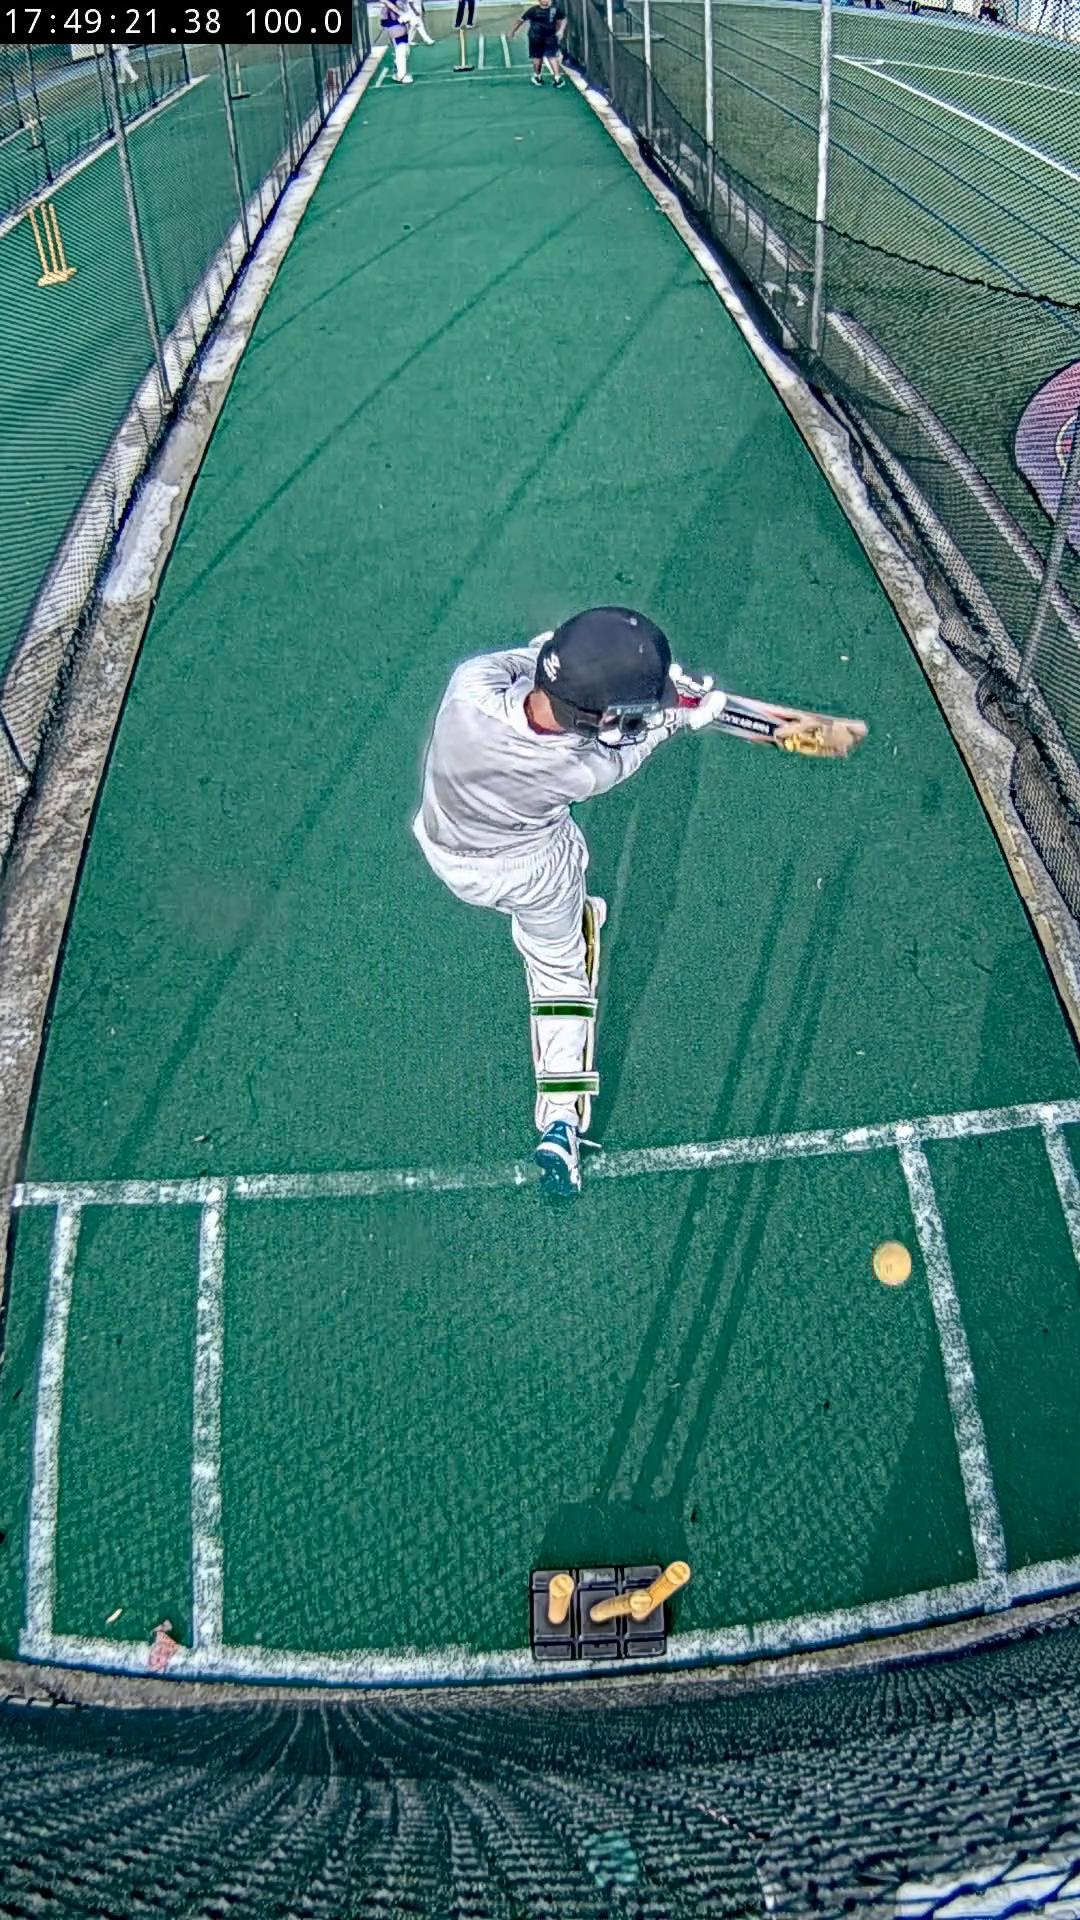ball: (870, 1241, 911, 1286)
bat: (712, 694, 866, 757)
gloves: (667, 663, 728, 732)
helmet: (537, 608, 671, 746)
pads: (582, 897, 608, 994)
stumps: (529, 1560, 690, 1662)
